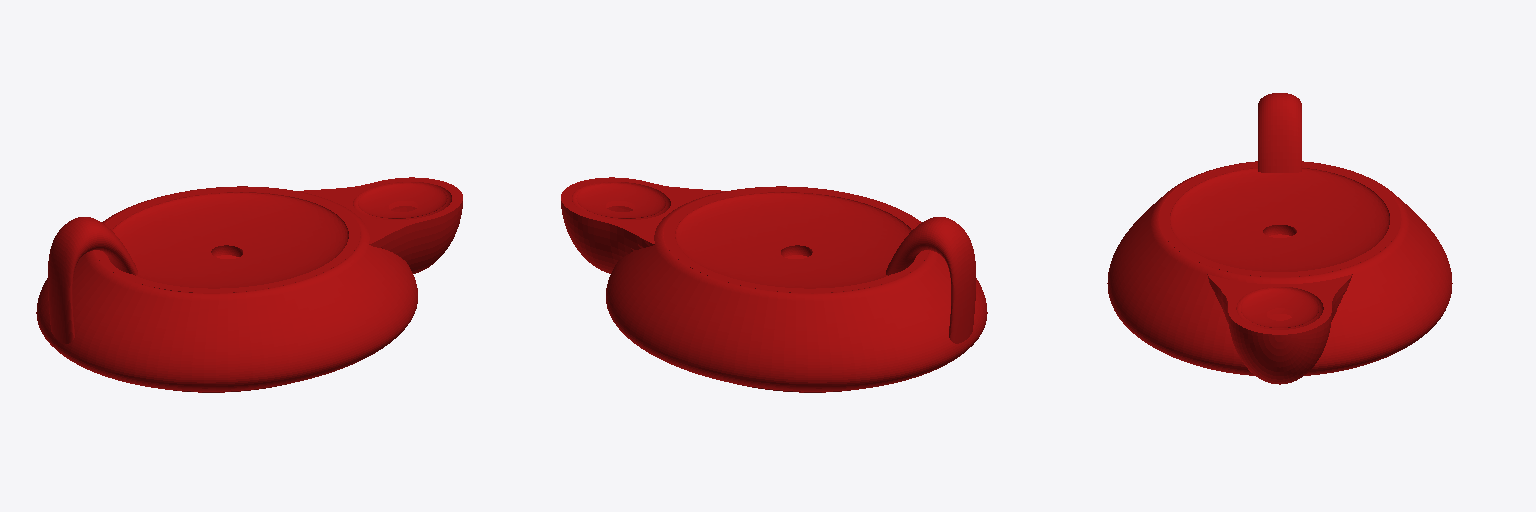
The model's file is opaitz.obj.
3 renders of one model, left to right at view 1: azimuth 30°, elevation 25°; view 2: azimuth 150°, elevation 25°; view 3: azimuth 270°, elevation 25°, orthographic.
Parts seen in each view (by area): view 1: Teapot001; view 2: Teapot001; view 3: Teapot001.
Part boxes in pixels (bbox=[...]): Teapot001: bbox=[36, 177, 462, 392]; Teapot001: bbox=[561, 177, 987, 392]; Teapot001: bbox=[1107, 93, 1452, 384].
Bounding box in the file's own units: 106 × 39.22 × 78.7.